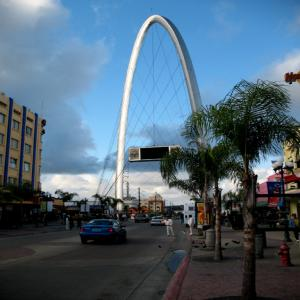Vehicle-registration-plate: (91, 229, 103, 233)
